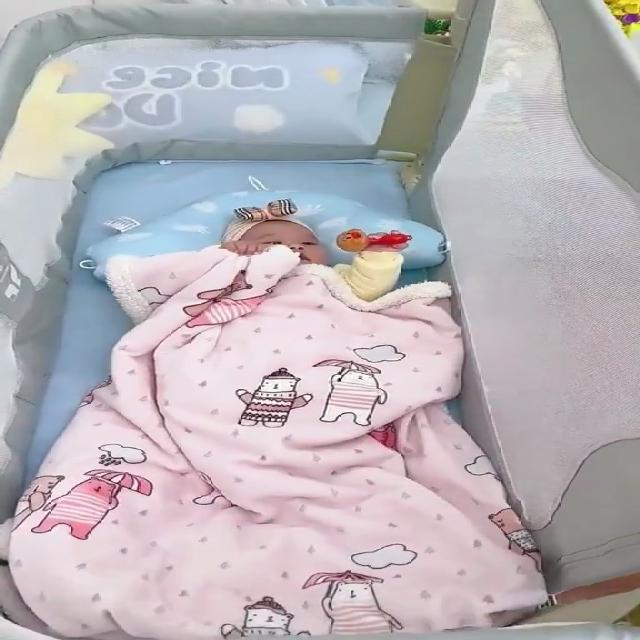baby: (100, 207, 463, 478)
